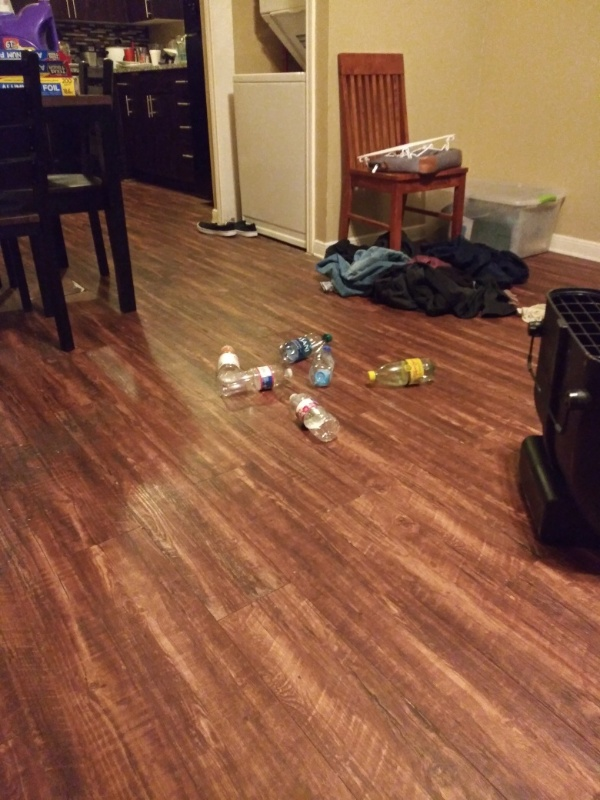bottle: (284, 388, 341, 449), (220, 363, 302, 401), (361, 353, 439, 390), (278, 329, 337, 365), (312, 339, 336, 390), (217, 341, 243, 380)
